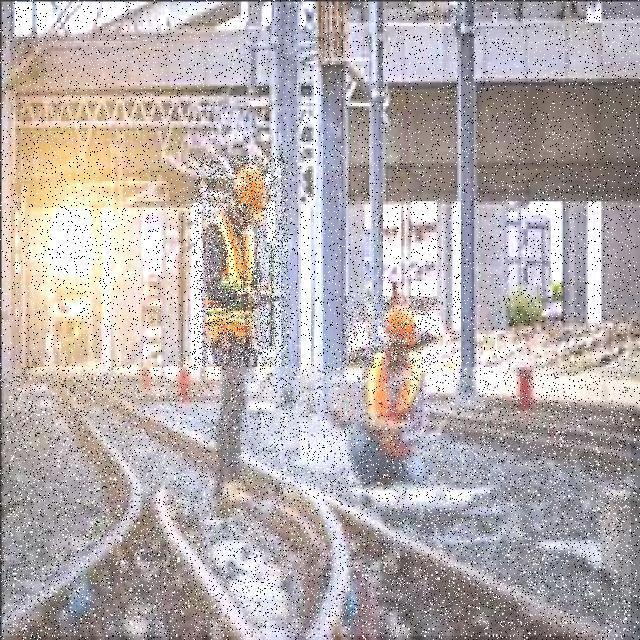rail: (6, 368, 631, 637)
